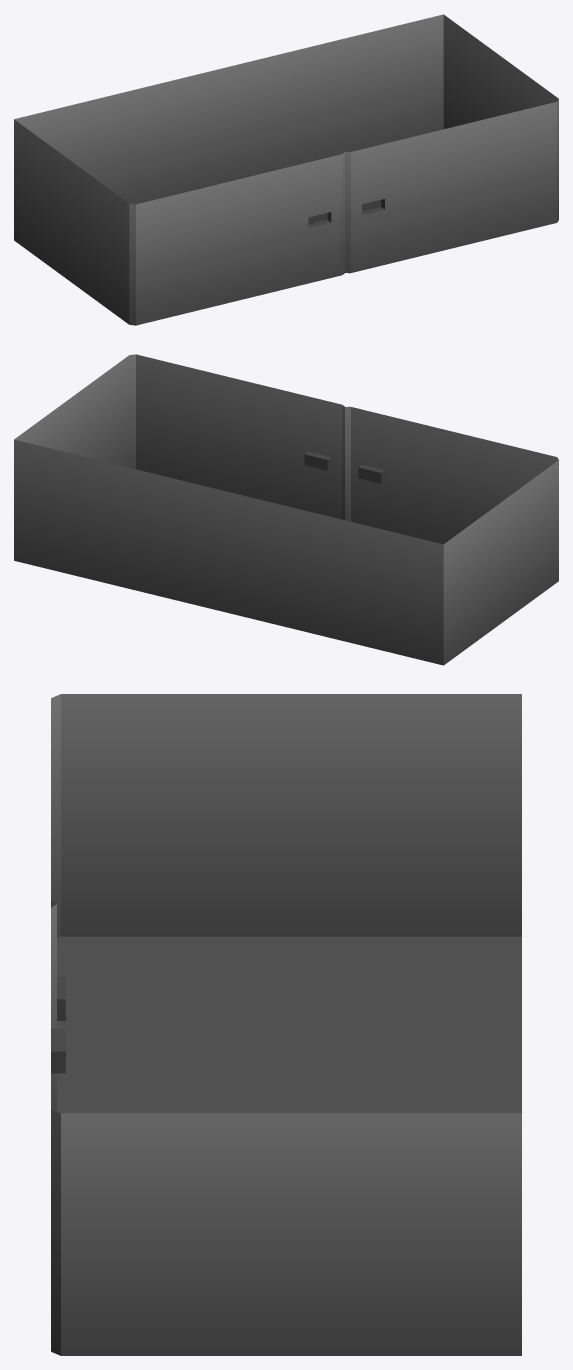
Rendered from Counter_01_v06_D.fbx.
3 views of the same model, one above another, from view 1: azimuth 30°, elevation 25°; view 2: azimuth 150°, elevation 25°; view 3: azimuth 270°, elevation 25° (orthographic). The views are drawn at different scales.
Visible parts, largest first — view 1: Counter_01_v06_D; view 2: Counter_01_v06_D; view 3: Counter_01_v06_D.
Boxes of the visible parts, <box> form: Counter_01_v06_D: <box>14,14,558,325</box>; Counter_01_v06_D: <box>14,354,558,665</box>; Counter_01_v06_D: <box>51,694,521,1355</box>.
Size of the model in its own units: 200 by 53.91 by 94.97.
